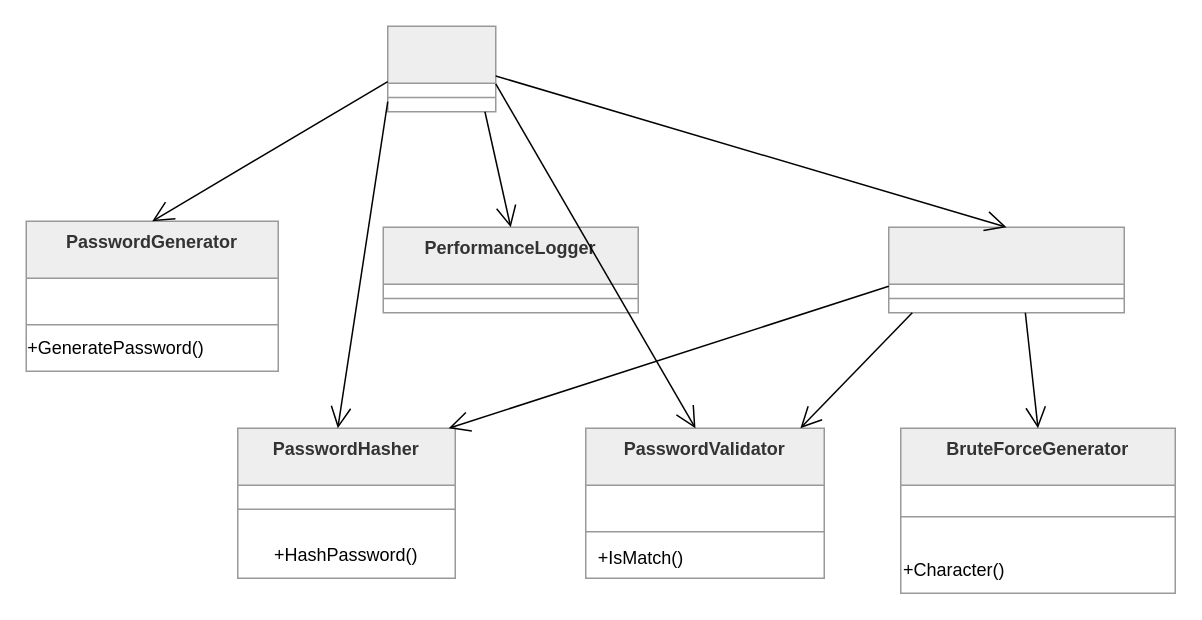
This 1202x620 diagram has some shape labels left out. Here are the shapes that lost their labels. From the top down, the box of each, then its label:
(386, 25, 496, 112): Form1
(887, 226, 1124, 313): BruteForceEngine
